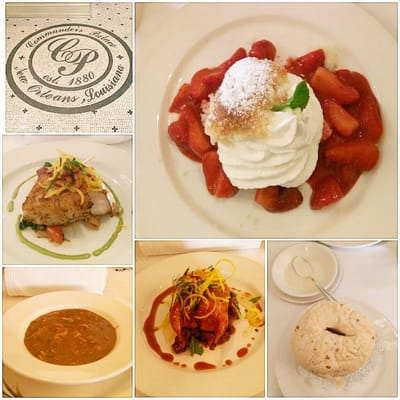pizza: (270, 242, 343, 304)
sushi: (3, 286, 133, 394), (270, 242, 342, 304)
